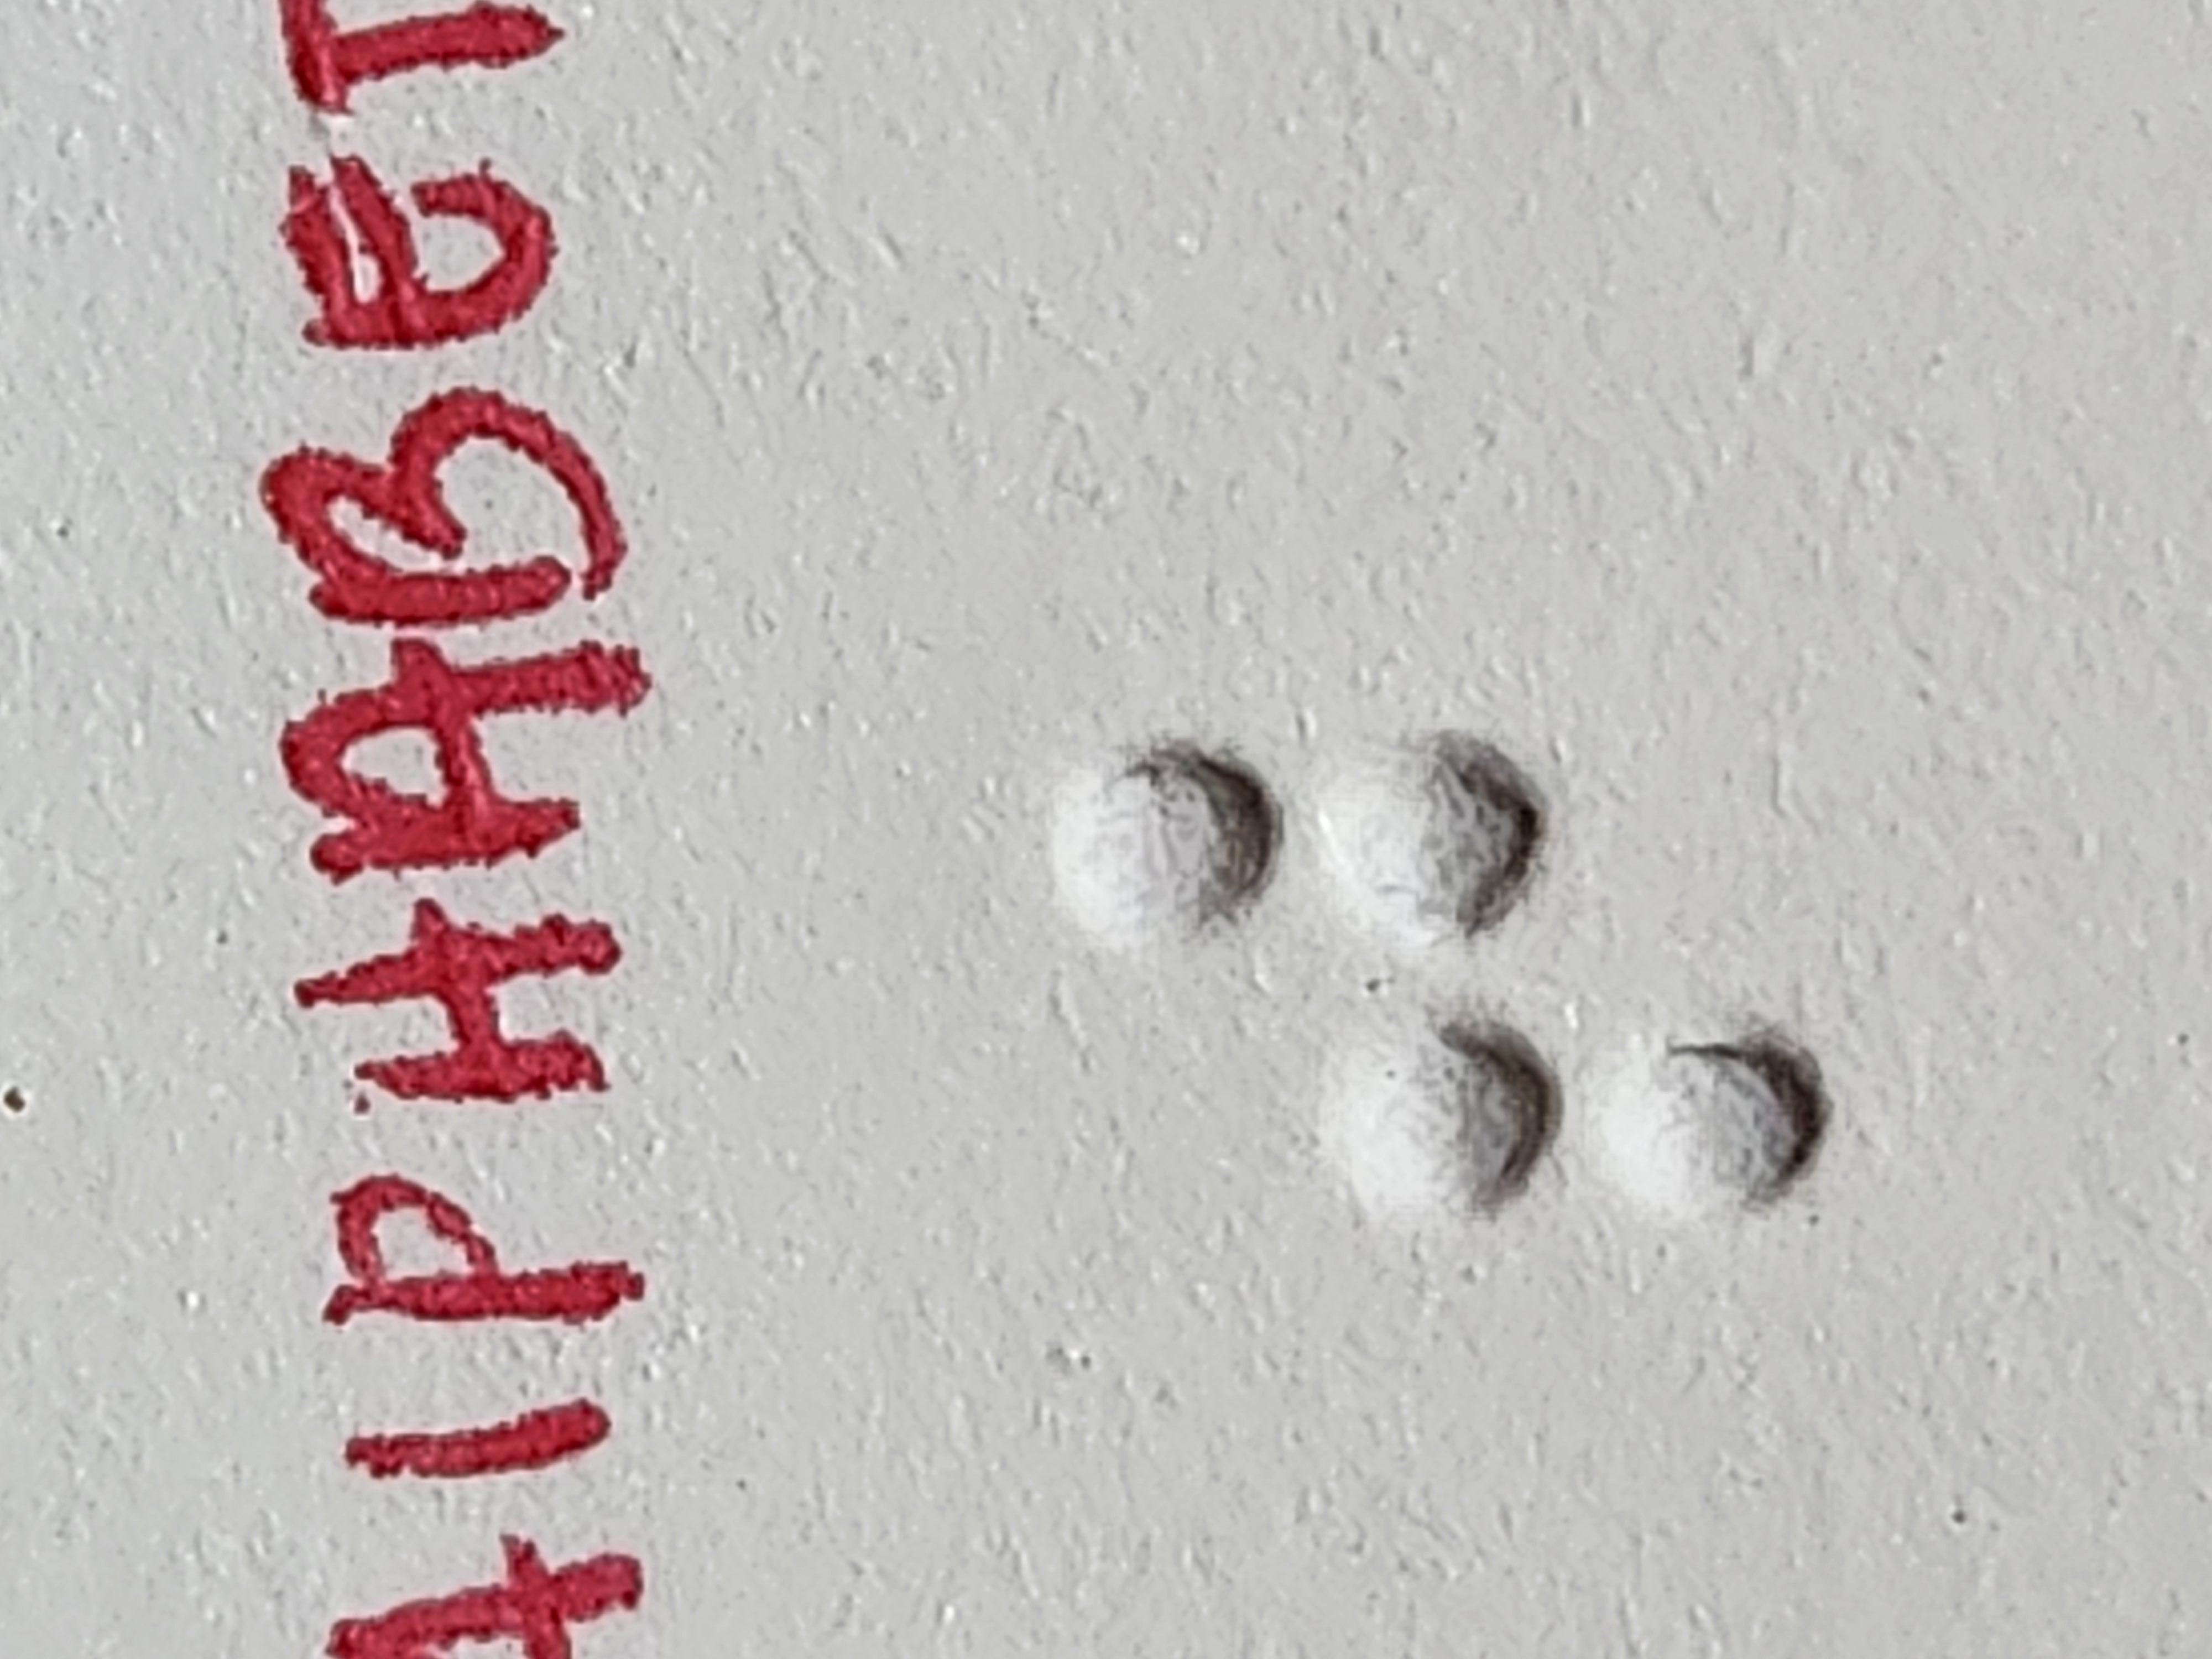one_cell_alphabet_tayo: (583, 784, 1245, 1370)
